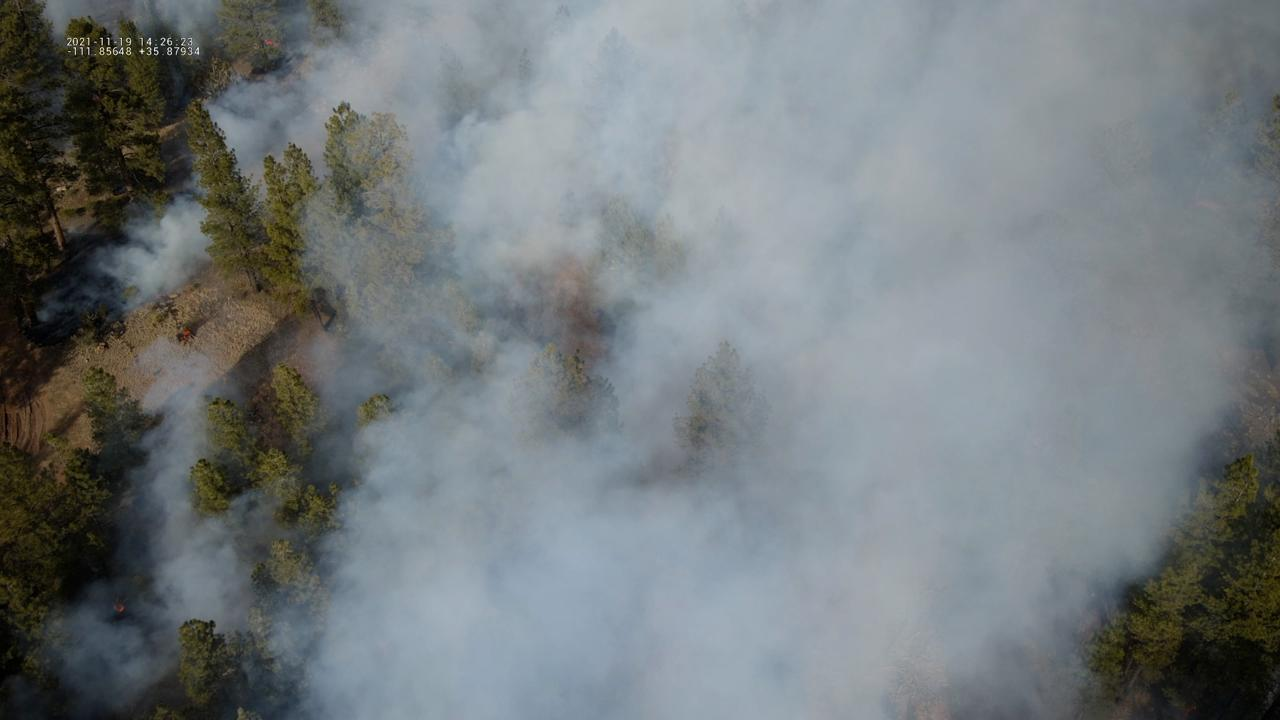fire: (111, 601, 126, 615), (181, 327, 191, 340), (261, 37, 274, 46)
smoke: (0, 0, 1280, 720)
